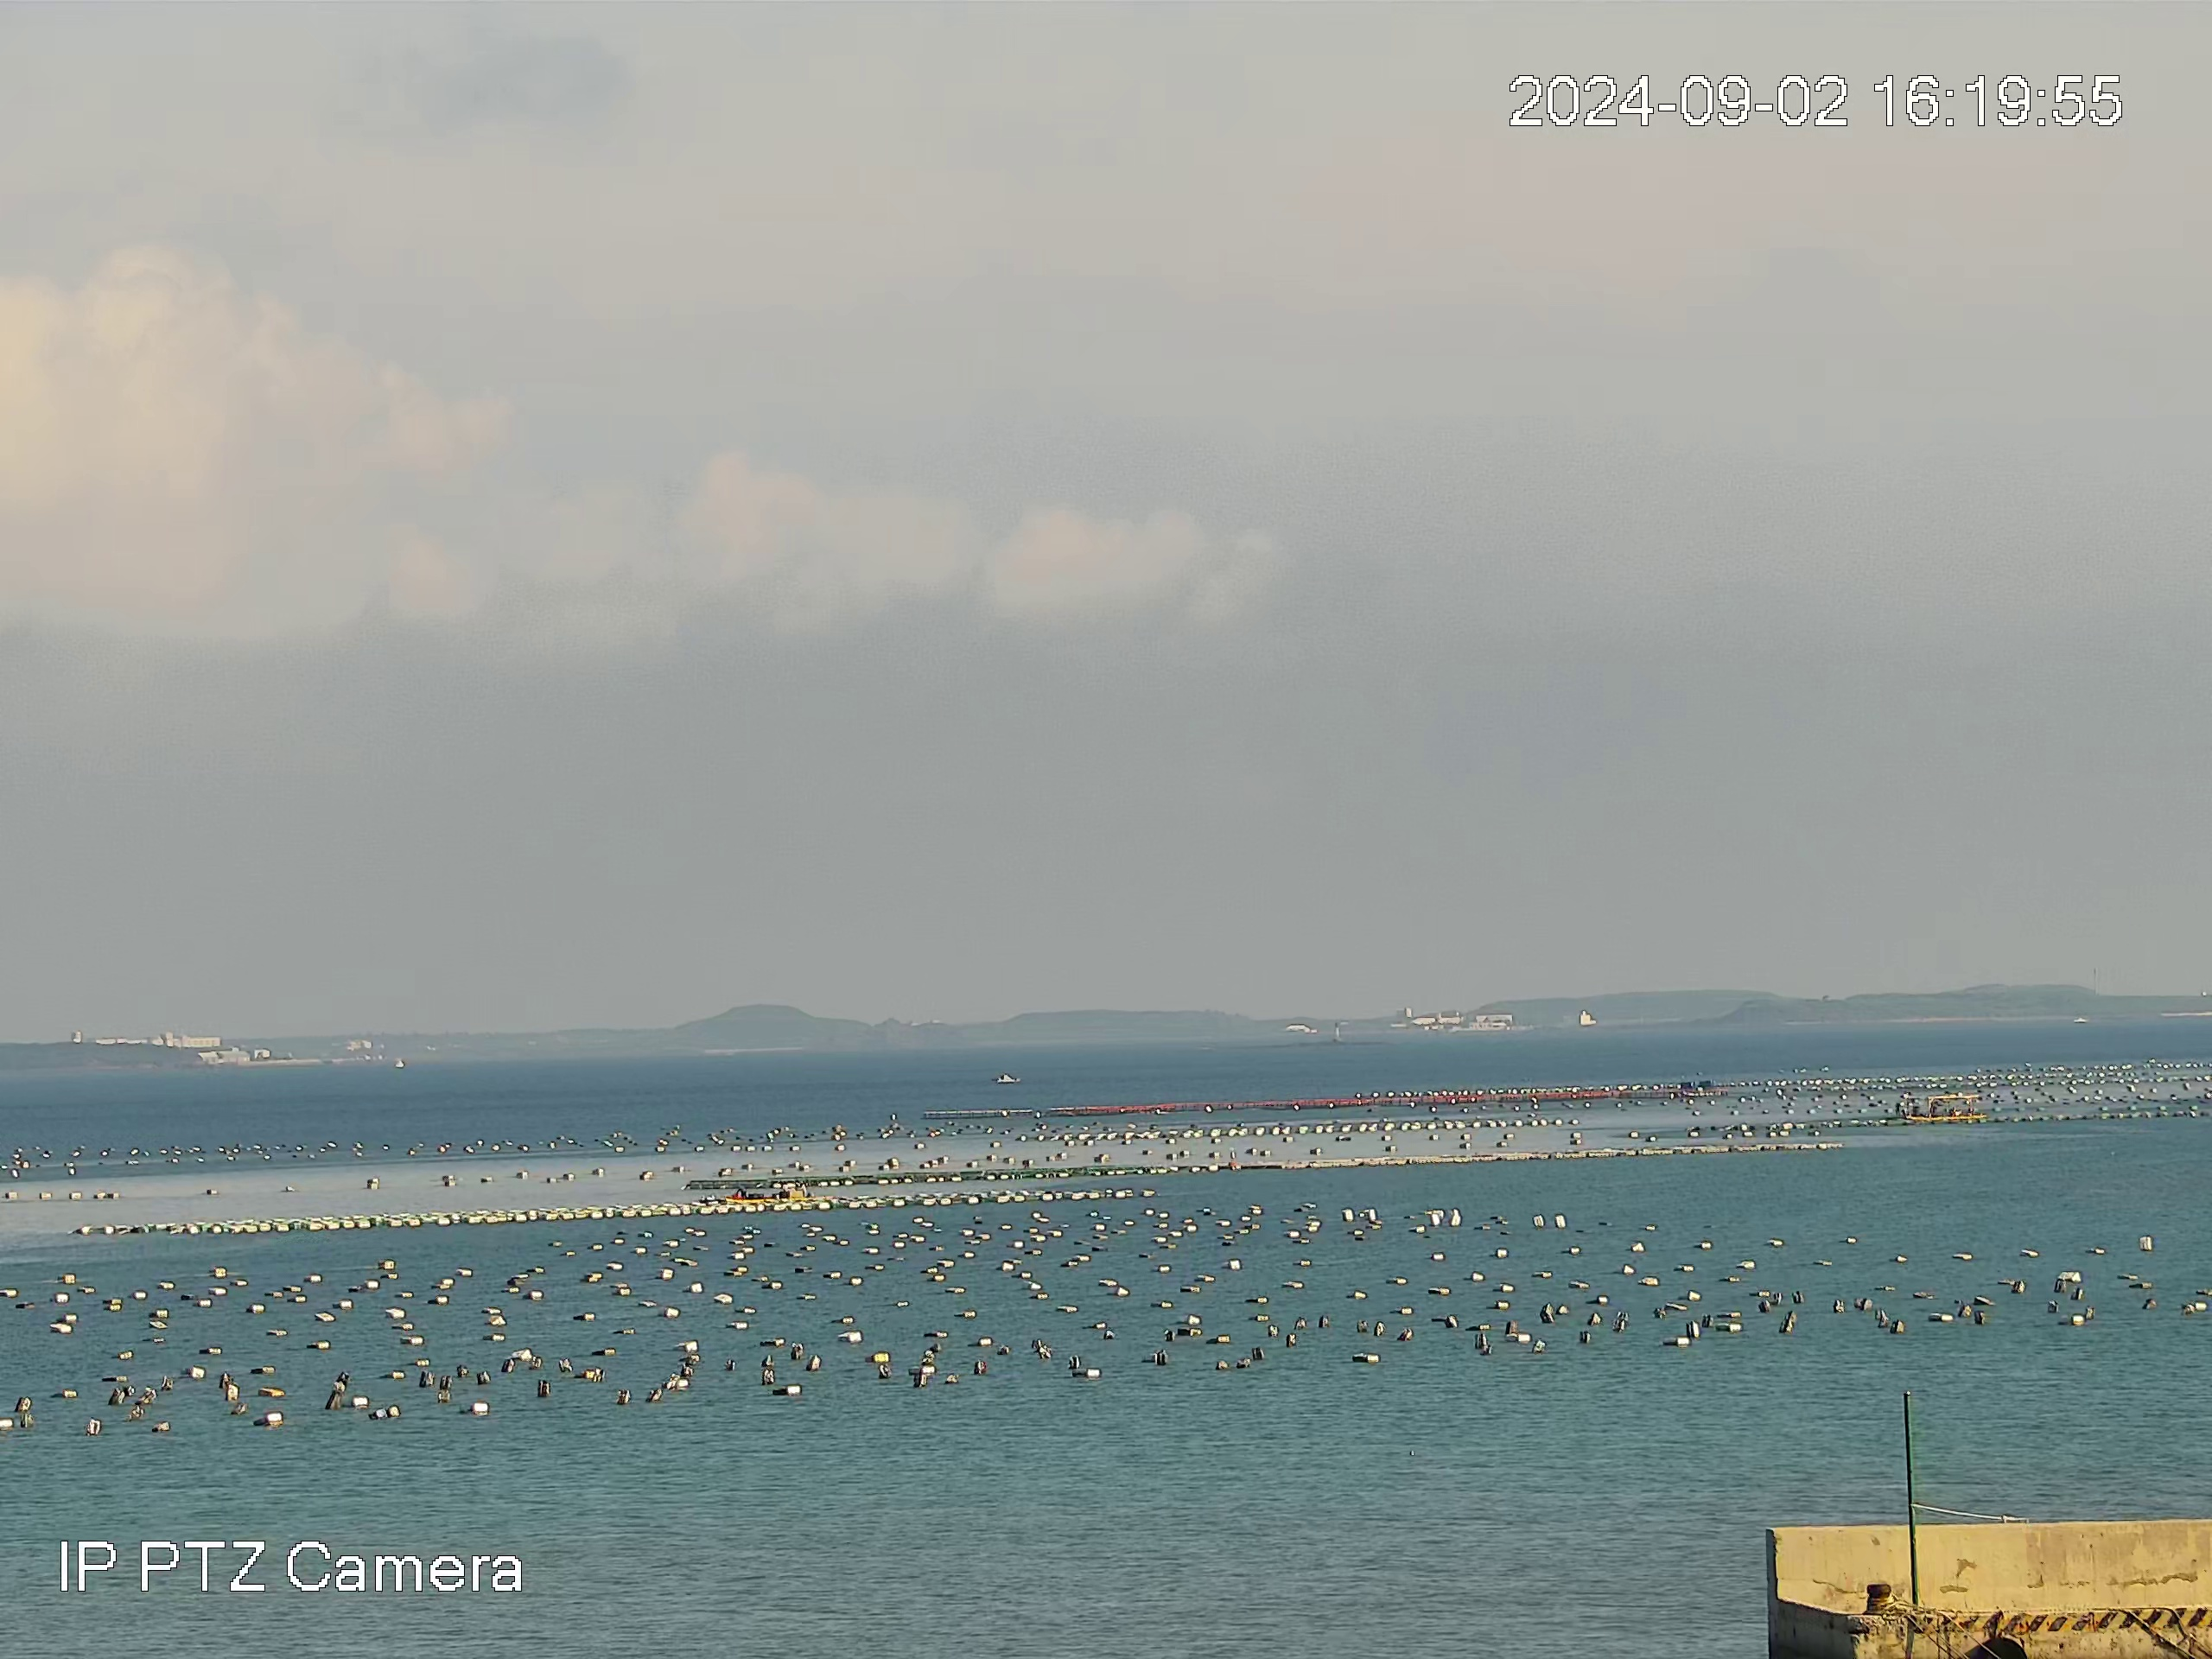boat: (1904, 1093, 1988, 1125), (722, 1180, 811, 1204), (995, 1072, 1020, 1084)
